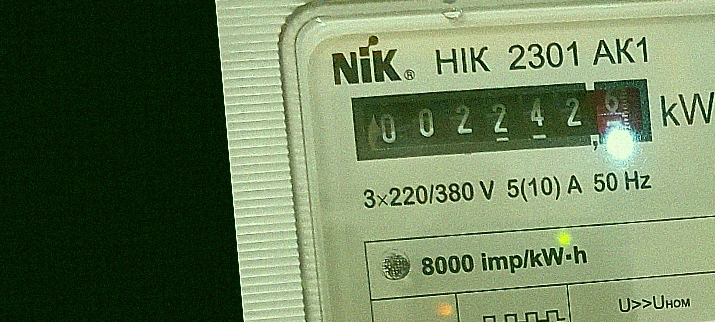0: (377, 110, 399, 145), (415, 105, 436, 139)
2: (489, 99, 510, 134), (453, 102, 474, 135), (563, 95, 583, 128)
4: (527, 94, 546, 128)
6: (602, 86, 620, 114)
screen: (339, 60, 664, 177)
